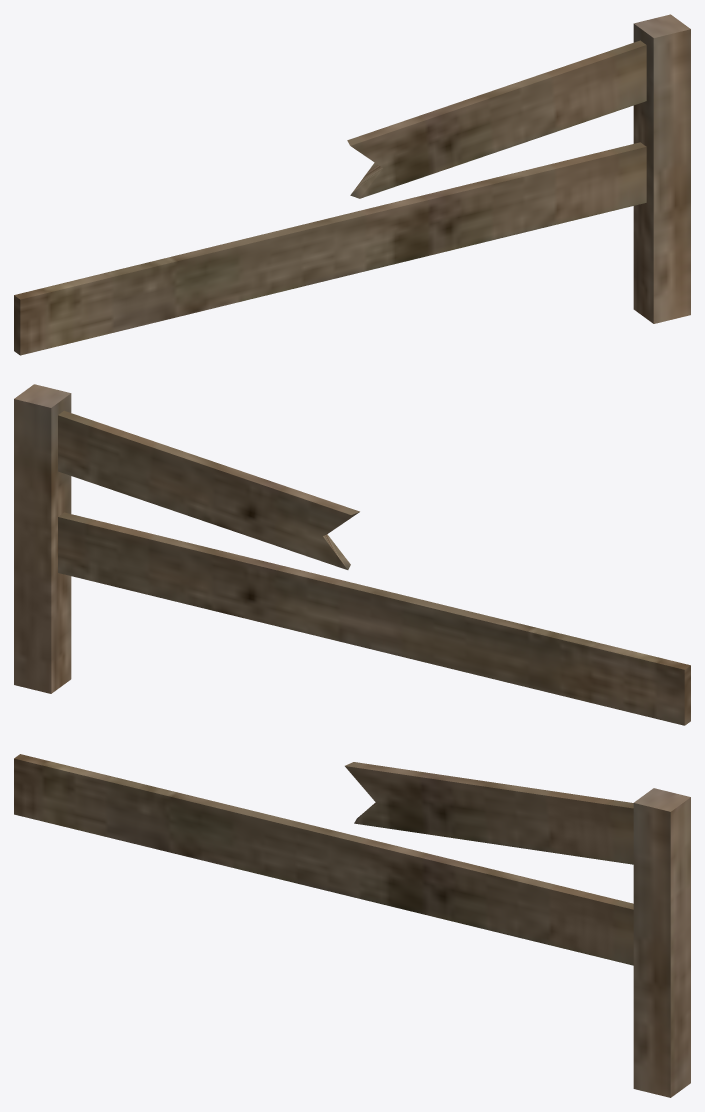
The model's file is Broken Fence3.fbx.
3 renders of one model, top to bottom at view 1: azimuth 30°, elevation 25°; view 2: azimuth 150°, elevation 25°; view 3: azimuth 330°, elevation 25°, orthographic.
Parts seen in each view (by area): view 1: broken fence; view 2: broken fence; view 3: broken fence.
Part boxes in pixels (x1,y1,x2,y2): broken fence: [14, 14, 690, 355]; broken fence: [14, 384, 690, 725]; broken fence: [14, 754, 690, 1097].
Size of the model in its own units: 389 by 160 by 20.49.
1 material, 1 textured.
